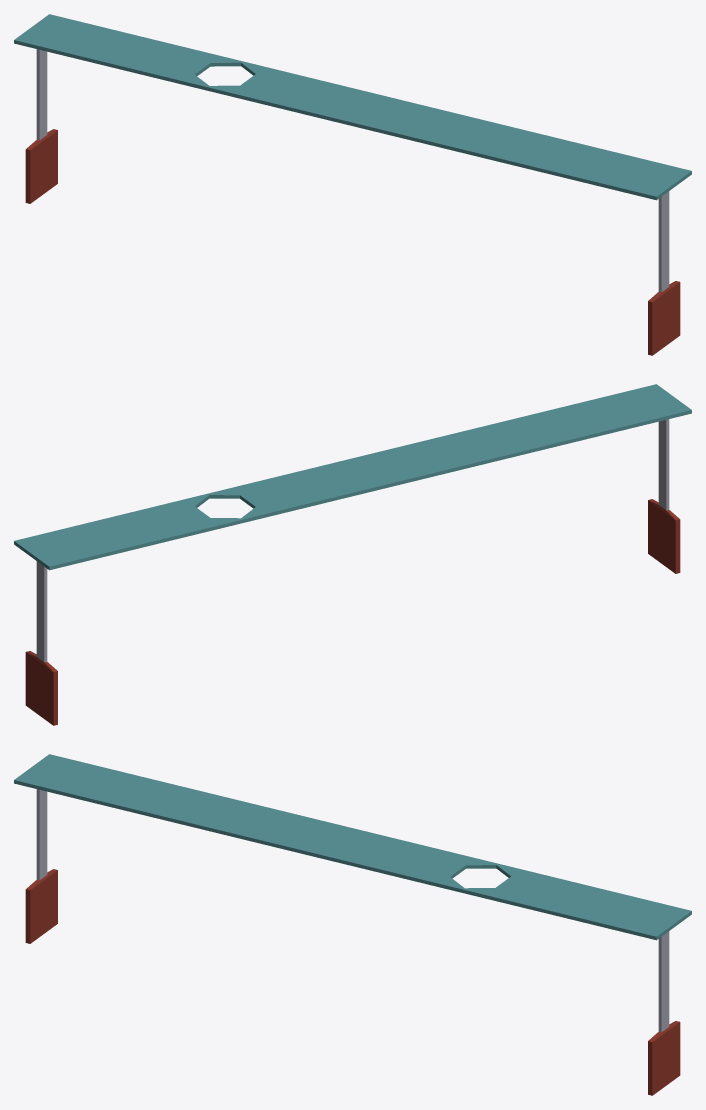
Rendered from Puzzle_antena_travesaño_B_01.fbx.
3 renders of one model, top to bottom at view 1: azimuth 90°, elevation 25°; view 2: azimuth 150°, elevation 25°; view 3: azimuth 270°, elevation 25°, orthographic.
Visible parts, largest first — view 1: Puzzle_antena_travesaño_B; view 2: Puzzle_antena_travesaño_B; view 3: Puzzle_antena_travesaño_B.
Part boxes in pixels (left/top/right/bottom): Puzzle_antena_travesaño_B: left=14, top=14, right=691, bottom=355; Puzzle_antena_travesaño_B: left=14, top=384, right=691, bottom=725; Puzzle_antena_travesaño_B: left=14, top=754, right=691, bottom=1095.
Bounding box in the file's own units: 536 × 224 × 840.
